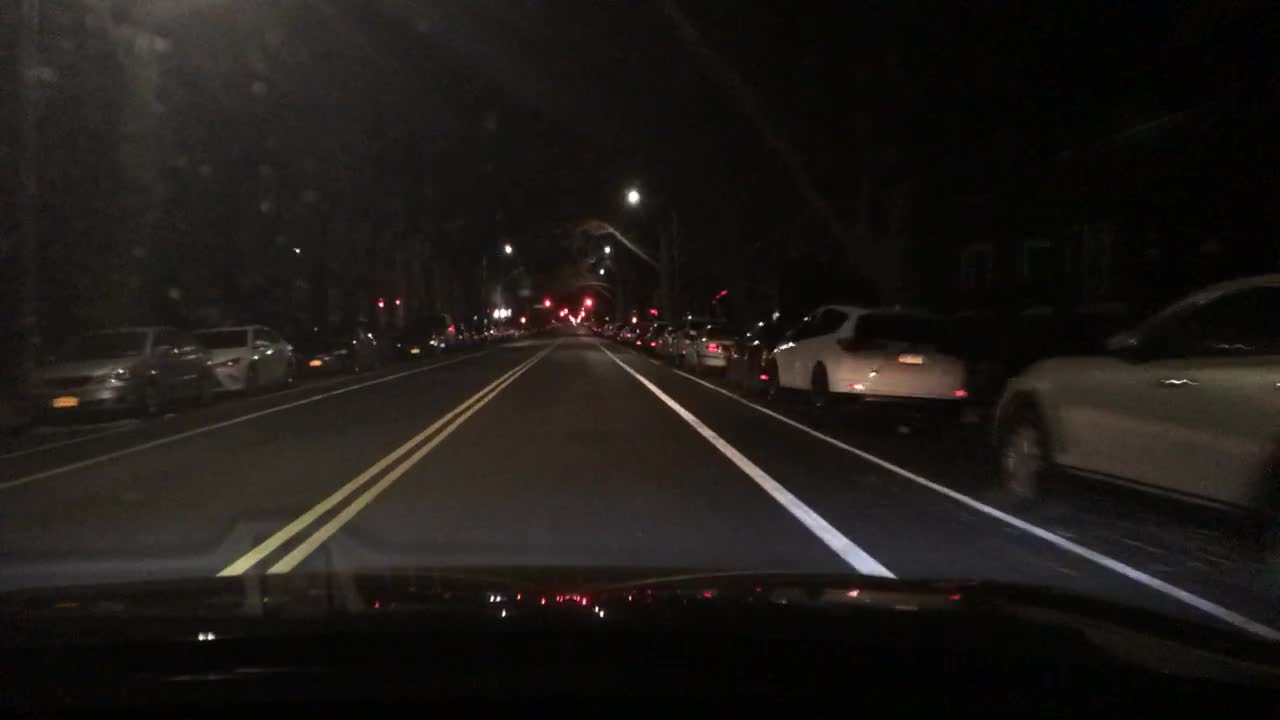car: (986, 272, 1278, 558), (759, 296, 974, 427), (22, 321, 217, 420), (189, 324, 301, 396), (732, 311, 809, 396), (291, 316, 381, 376), (690, 319, 747, 368), (391, 321, 452, 356), (671, 314, 714, 360), (416, 309, 459, 350), (635, 321, 666, 351), (656, 324, 681, 358), (452, 316, 481, 345), (469, 313, 490, 341), (615, 323, 638, 341), (501, 321, 524, 336), (486, 316, 502, 336), (598, 321, 617, 335), (521, 325, 536, 338), (588, 321, 601, 335)
traffic light: (585, 296, 593, 311), (544, 298, 550, 309)
